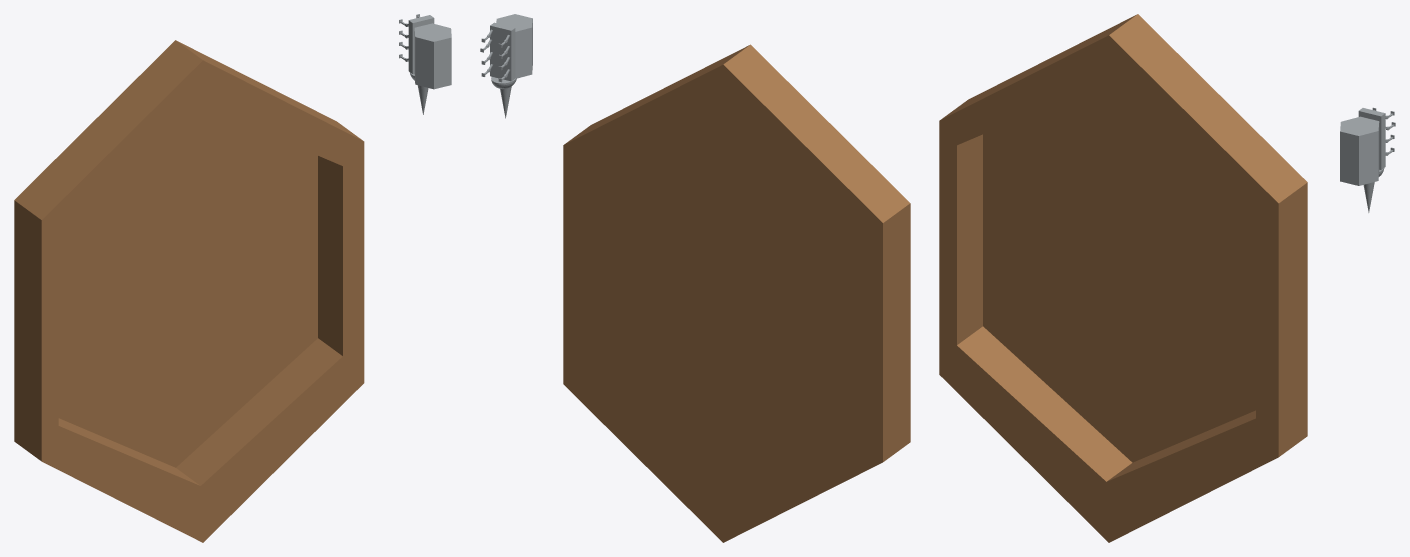
File: tinker.obj
3 renders of one model, left to right at view 1: azimuth 30°, elevation 25°; view 2: azimuth 150°, elevation 25°; view 3: azimuth 330°, elevation 25°, orthographic. The views are drawn at different scales.
Visible parts, largest first — view 1: group_0_-5670064, group_0_-5788239; view 2: group_0_-5670064, group_0_-5788239; view 3: group_0_-5670064, group_0_-5788239.
Part boxes in pixels (box(x1,y1,x2,y2)): group_0_-5670064: box(14, 40, 364, 542); group_0_-5788239: box(399, 14, 451, 114); group_0_-5670064: box(563, 44, 910, 542); group_0_-5788239: box(480, 14, 532, 118); group_0_-5670064: box(939, 14, 1307, 542); group_0_-5788239: box(1340, 107, 1395, 212).
Size of the model in its own units: 173 by 193 by 24.
